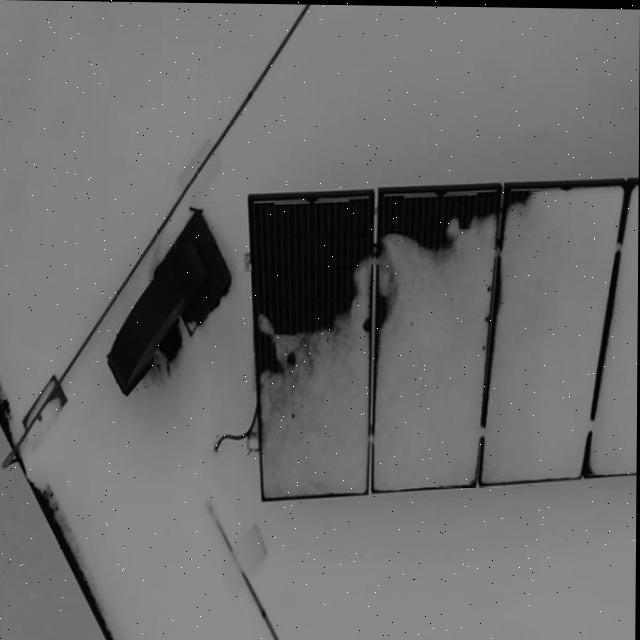Anomaly Solar Panel: (481, 183, 626, 485), (375, 185, 501, 490), (251, 192, 374, 500), (588, 182, 639, 470)
Snow: (258, 186, 639, 502)
